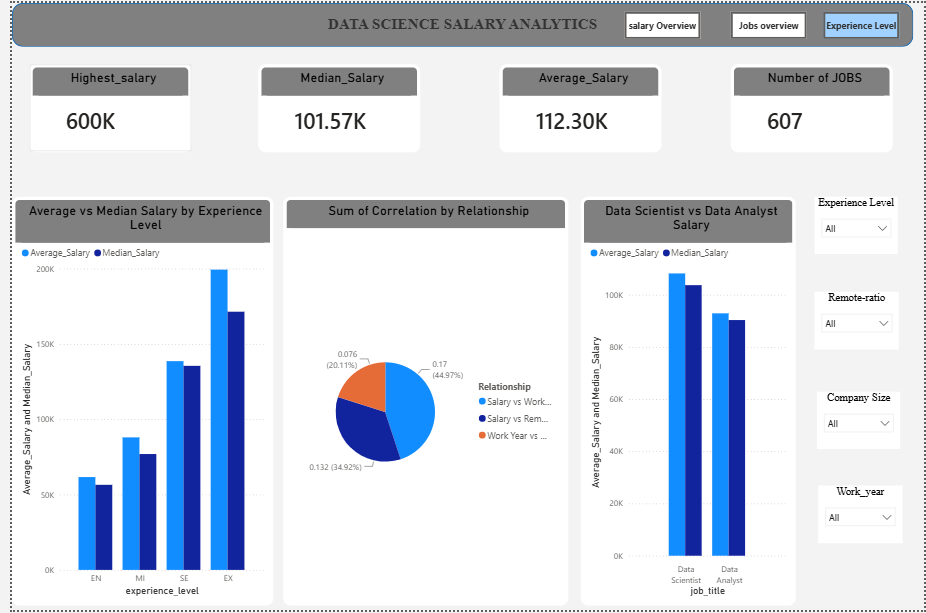

The page's visual inventory and layout, read from the dashboard file:
{"tool":"powerbi","page":{"name":"Experience Level Insights","canvas":[1350,900],"ordinal":2},"visuals":[{"type":"cardVisual","title":"Average_Salary","fields":{"Data":["_measure.Average_Salary"]},"box":[722.2,90.7,240,130],"z":0},{"type":"cardVisual","title":"Median_Salary","fields":{"Data":["_measure.Median_Salary"]},"box":[364.8,90.7,240,130],"z":1000},{"type":"cardVisual","title":"Highest_salary","fields":{"Data":["_measure.Highest_Salary"]},"box":[25,90,240,130],"z":2000},{"type":"cardVisual","title":"Number of JOBS","fields":{"Data":["_measure.numb_job"]},"box":[1064.8,90.7,240,130],"z":3000},{"type":"slicer","title":"Work_year","fields":{"Values":["Fact.work_year"]},"box":[1194.4,714.8,124.4,85.6],"z":4000},{"type":"slicer","title":"Remote-ratio","fields":{"Values":["Company_Dim.remote_ratio"]},"box":[1188.9,427.8,124.9,85.9],"z":5000},{"type":"clusteredColumnChart","title":"Average vs Median Salary by Experience Level","fields":{"Category":["Employment_Dim.experience_level"],"Y":["_measure.Average_Salary","_measure.Median_Salary"]},"box":[0,287,387,605.6],"z":6000},{"type":"shape","box":[0,0,1335.2,64.8],"z":7000},{"type":"actionButton","box":[1064.8,13,112.5,40.4],"z":8000},{"type":"actionButton","box":[1201.9,13,112.5,40.4],"z":9000},{"type":"actionButton","box":[907.4,13,112.5,40.4],"z":10000},{"type":"slicer","title":"Experience Level","fields":{"Values":["Employment_Dim.experience_level"]},"box":[1188.9,287,123.3,85],"z":11000},{"type":"slicer","title":"Company Size","fields":{"Values":["Company_Dim.company_size"]},"box":[1192.6,575.9,123.3,85],"z":12000},{"type":"clusteredColumnChart","title":"Data Scientist vs Data Analyst Salary","fields":{"Category":["Employment_Dim.job_title"],"Y":["_measure.Average_Salary","_measure.Median_Salary"]},"box":[842.6,287,318.5,605.6],"z":13000},{"type":"pieChart","fields":{"Category":["Table.Relationship"],"Y":["Sum(Table.Correlation)"]},"box":[401.9,287,422.2,605.6],"z":14000}]}

Visuals, with their boxes in screenshot pixels (x1, y1, x2, y2), scaled from the page's 1350x900 canvas onto the 926x613 screenshot:
"Average_Salary" cardVisual: <region>495, 62, 660, 150</region>
"Median_Salary" cardVisual: <region>250, 62, 415, 150</region>
"Highest_salary" cardVisual: <region>17, 61, 182, 150</region>
"Number of JOBS" cardVisual: <region>730, 62, 895, 150</region>
"Work_year" slicer: <region>819, 487, 905, 545</region>
"Remote-ratio" slicer: <region>815, 291, 901, 350</region>
"Average vs Median Salary by Experience Level" clusteredColumnChart: <region>0, 195, 265, 608</region>
shape: <region>0, 0, 916, 44</region>
actionButton: <region>730, 9, 808, 36</region>
actionButton: <region>824, 9, 902, 36</region>
actionButton: <region>622, 9, 700, 36</region>
"Experience Level" slicer: <region>815, 195, 900, 253</region>
"Company Size" slicer: <region>818, 392, 903, 450</region>
"Data Scientist vs Data Analyst Salary" clusteredColumnChart: <region>578, 195, 796, 608</region>
pieChart - Table.Relationship x Sum(Table.Correlation): <region>276, 195, 565, 608</region>
